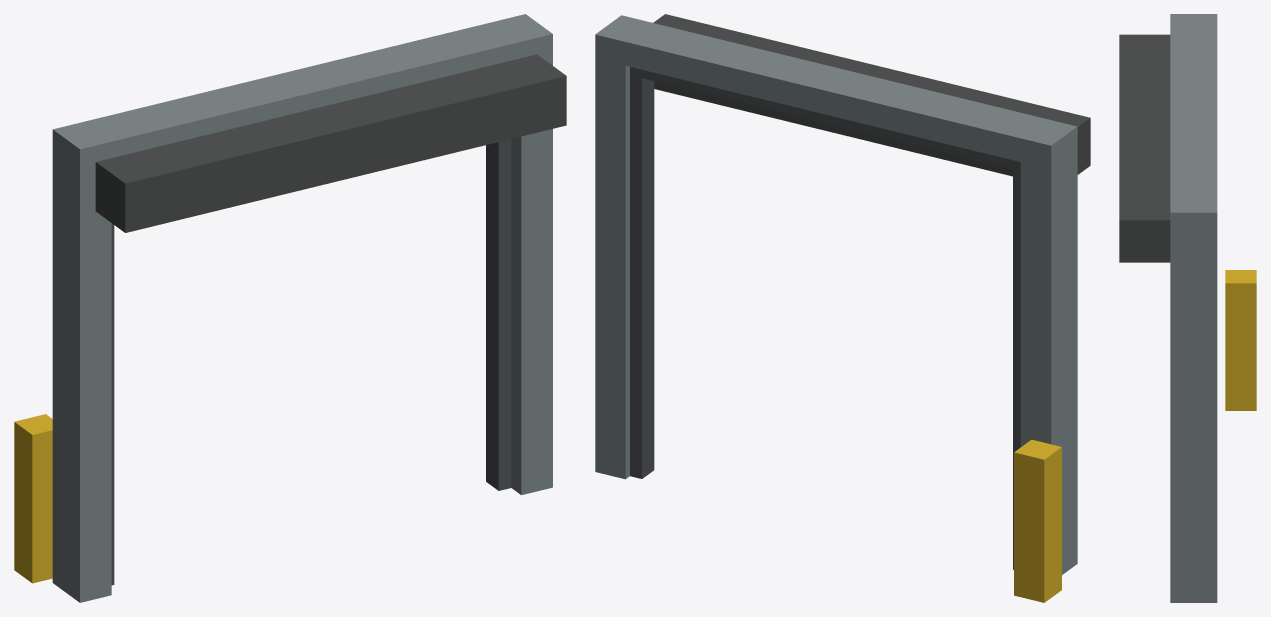
File: Kit_metal_bigdoor.fbx
3 views of the same model, side by side, from view 1: azimuth 30°, elevation 25°; view 2: azimuth 150°, elevation 25°; view 3: azimuth 270°, elevation 25° (orthographic). The views are drawn at different scales.
Visible parts, largest first — view 1: ShutterBox, WallJambL, WallAbove, WallJambR, FrameR, Bollard, FrameL; view 2: WallJambL, WallAbove, WallJambR, FrameR, ShutterBox, Bollard, FrameTop, FrameL; view 3: WallJambR, ShutterBox, WallAbove, Bollard, WallJambL.
Boxes of the visible parts, bbox=[...] form: ShutterBox: bbox=[95, 54, 566, 232]; WallJambL: bbox=[52, 122, 111, 602]; WallAbove: bbox=[84, 22, 521, 157]; WallJambR: bbox=[494, 14, 552, 495]; FrameR: bbox=[486, 139, 511, 490]; Bollard: bbox=[14, 414, 52, 583]; FrameL: bbox=[111, 223, 114, 585]; WallJambL: bbox=[1020, 119, 1077, 574]; WallAbove: bbox=[625, 22, 1046, 161]; WallJambR: bbox=[595, 15, 651, 479]; FrameR: bbox=[630, 69, 654, 478]; ShutterBox: bbox=[653, 14, 1090, 176]; Bollard: bbox=[1014, 439, 1061, 602]; FrameTop: bbox=[630, 67, 1020, 170]; FrameL: bbox=[1013, 161, 1020, 569]; WallJambR: bbox=[1170, 199, 1217, 602]; ShutterBox: bbox=[1119, 34, 1170, 262]; WallAbove: bbox=[1170, 27, 1217, 199]; Bollard: bbox=[1225, 270, 1256, 410]; WallJambL: bbox=[1170, 14, 1217, 27].
Size of the model in its own units: 310 by 87.5 by 275.
